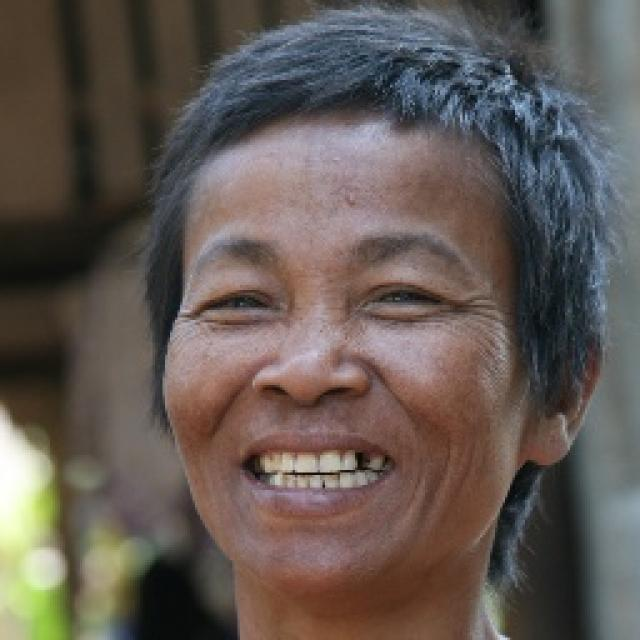earlobe: (524, 410, 571, 467)
eye: (365, 282, 445, 312), (204, 288, 276, 316)
nose: (251, 383, 365, 426)
wholeear: (524, 327, 605, 467)
